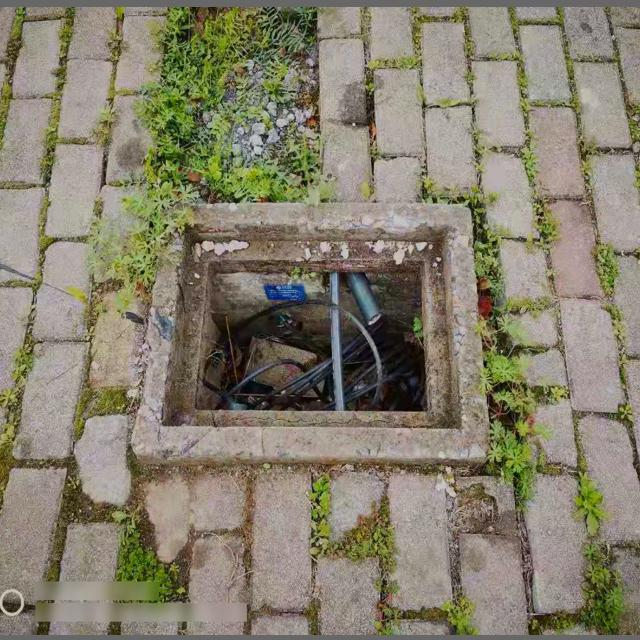lose: (133, 198, 491, 462)
